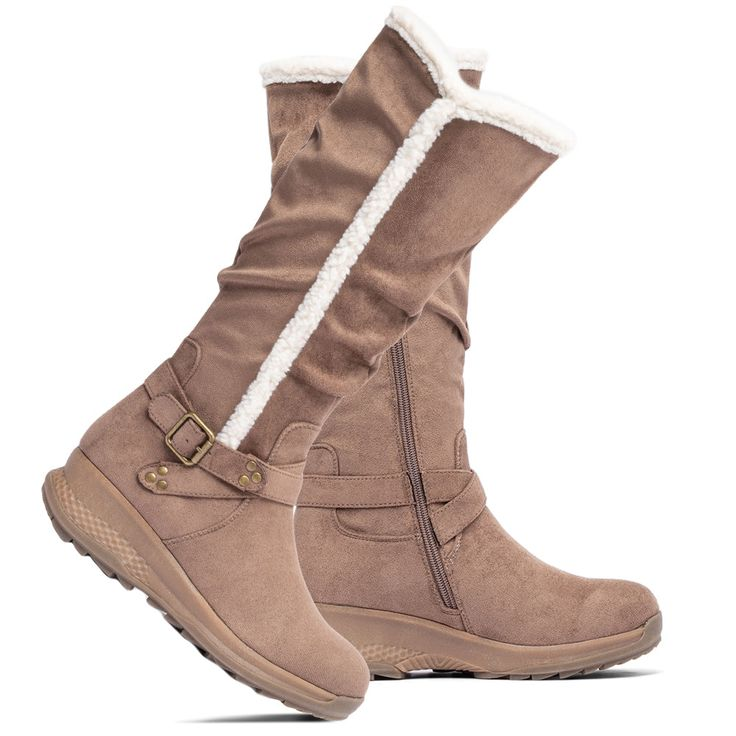gamuza: (79, 24, 658, 697)
